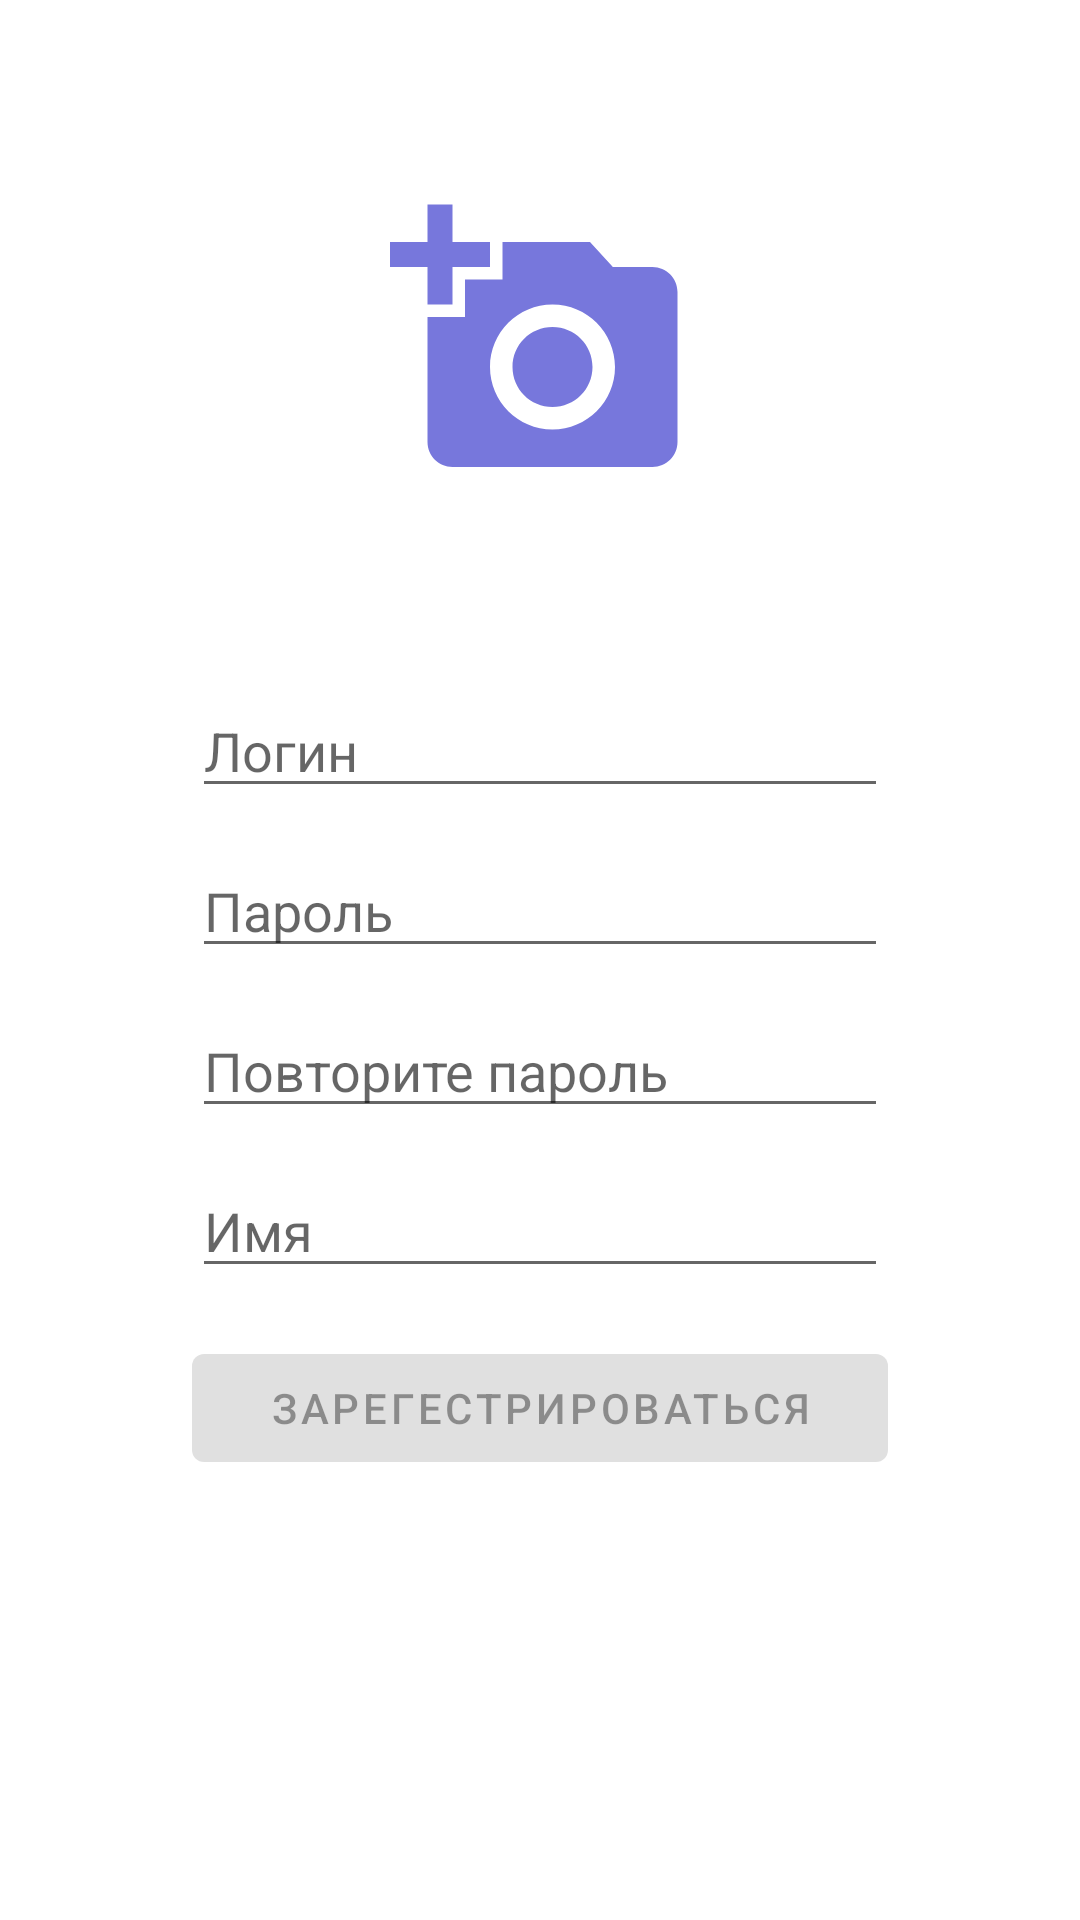

Named icons in this screenshot (1080*1920) and their bounding boxes, bbox=[x1, y1, x2, y2]:
add photo: bbox=[390, 204, 678, 467]
